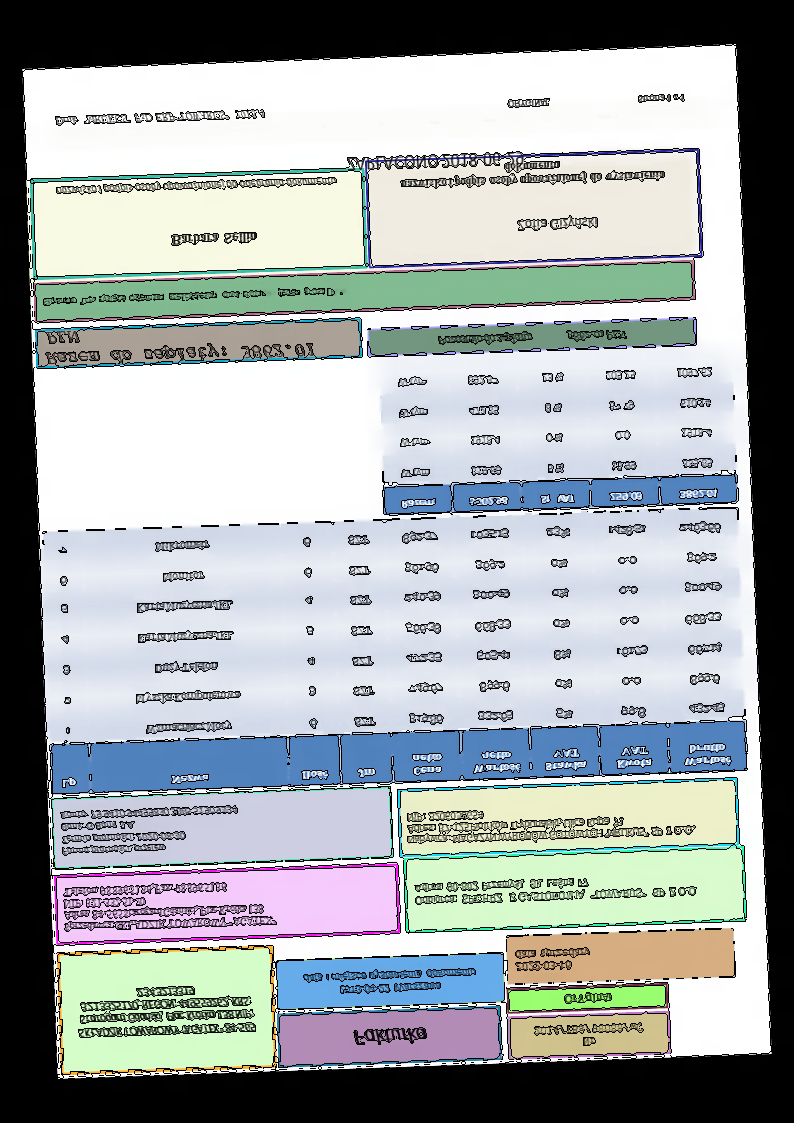Table: (41, 507, 747, 796), (378, 352, 738, 517)
TextBox: (404, 801, 695, 847), (60, 878, 277, 935), (43, 321, 315, 366), (73, 980, 257, 1041), (413, 871, 702, 908), (58, 802, 241, 859), (398, 156, 667, 191), (41, 284, 351, 308), (53, 173, 337, 198), (301, 965, 479, 998), (54, 107, 267, 128), (344, 149, 525, 172), (434, 327, 631, 348), (531, 1021, 646, 1051), (506, 92, 686, 111), (512, 944, 593, 974), (350, 1026, 428, 1047), (515, 214, 600, 233), (169, 230, 257, 247), (562, 990, 615, 1006)
